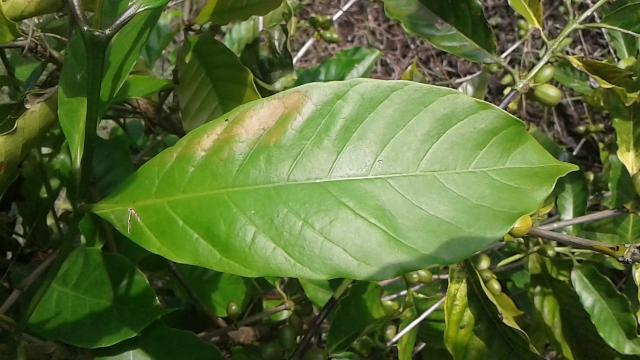rust_level_1: (94, 79, 582, 280)
